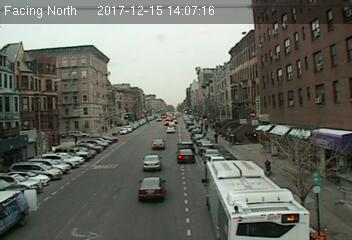bus: (201, 157, 309, 240)
car: (137, 177, 167, 200), (142, 155, 161, 171), (177, 149, 195, 165), (176, 140, 195, 149), (151, 139, 164, 148)
pedestrian: (264, 159, 274, 177)
truck: (1, 186, 37, 238)
